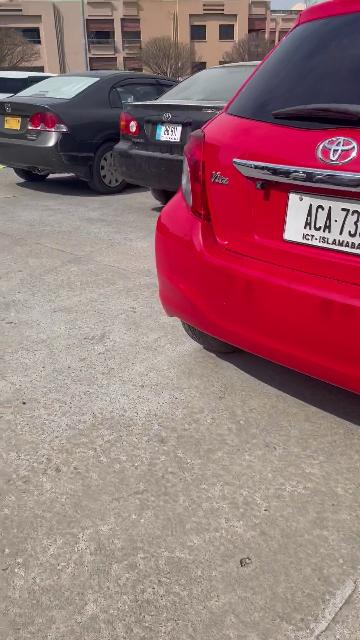plate: (156, 123, 183, 142)
